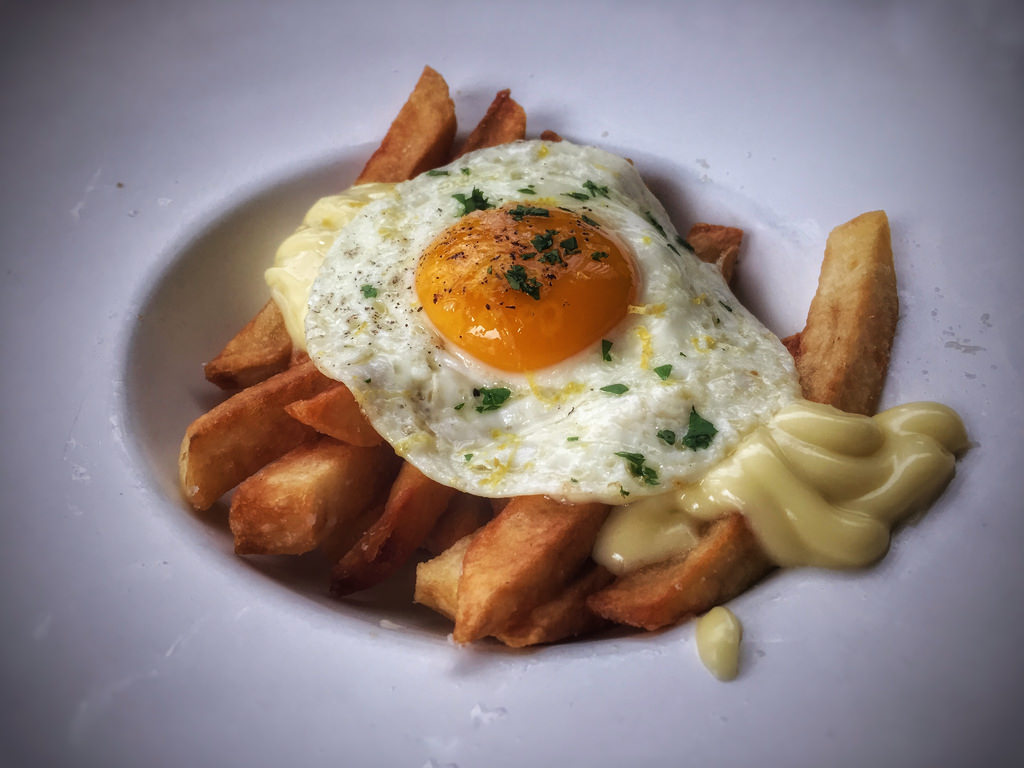fried egg: (293, 186, 806, 476)
